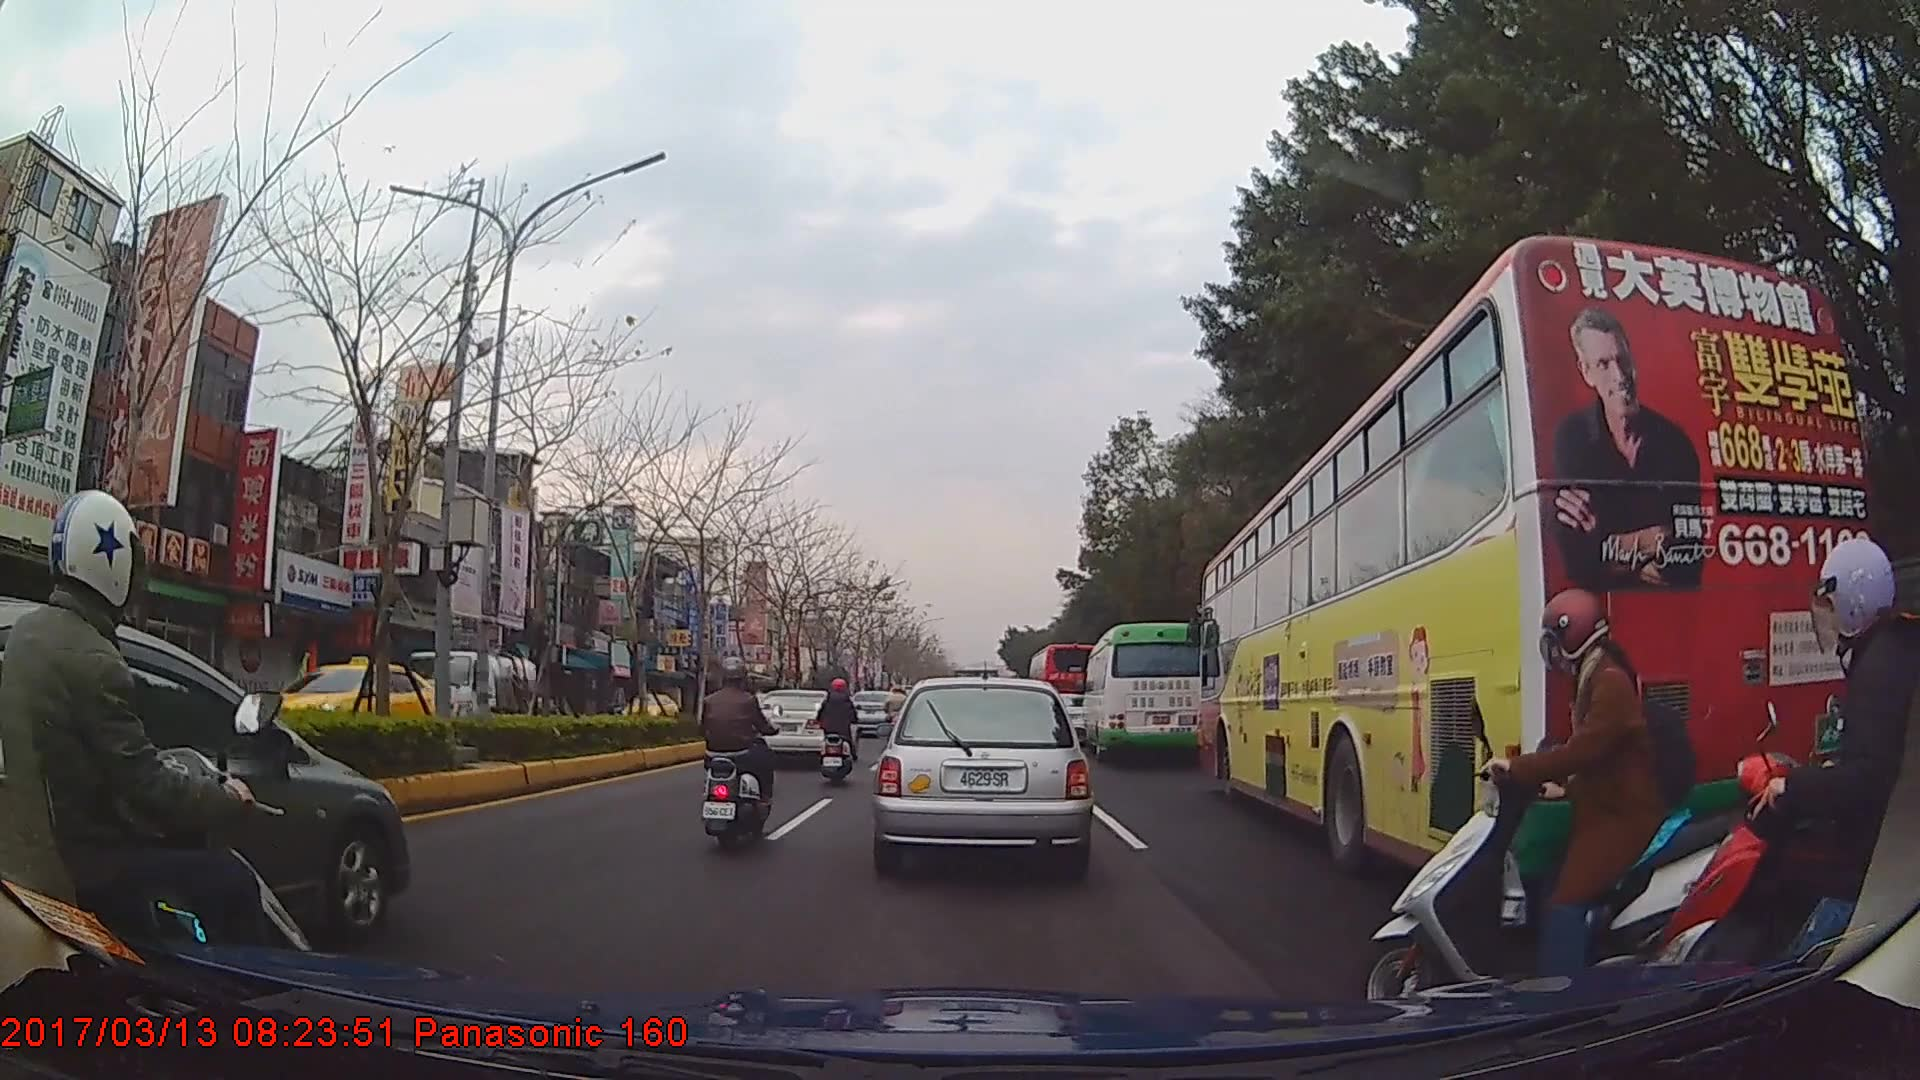rider: (1347, 581, 1775, 1032), (1, 486, 328, 1033), (1662, 530, 1920, 1055), (697, 657, 781, 857), (816, 678, 861, 788), (882, 684, 909, 740)
vehicle: (1200, 233, 1879, 887), (0, 595, 408, 965), (875, 669, 1089, 875), (247, 653, 457, 761), (1081, 620, 1211, 764), (384, 648, 559, 752), (751, 688, 855, 770), (1024, 639, 1101, 733)
